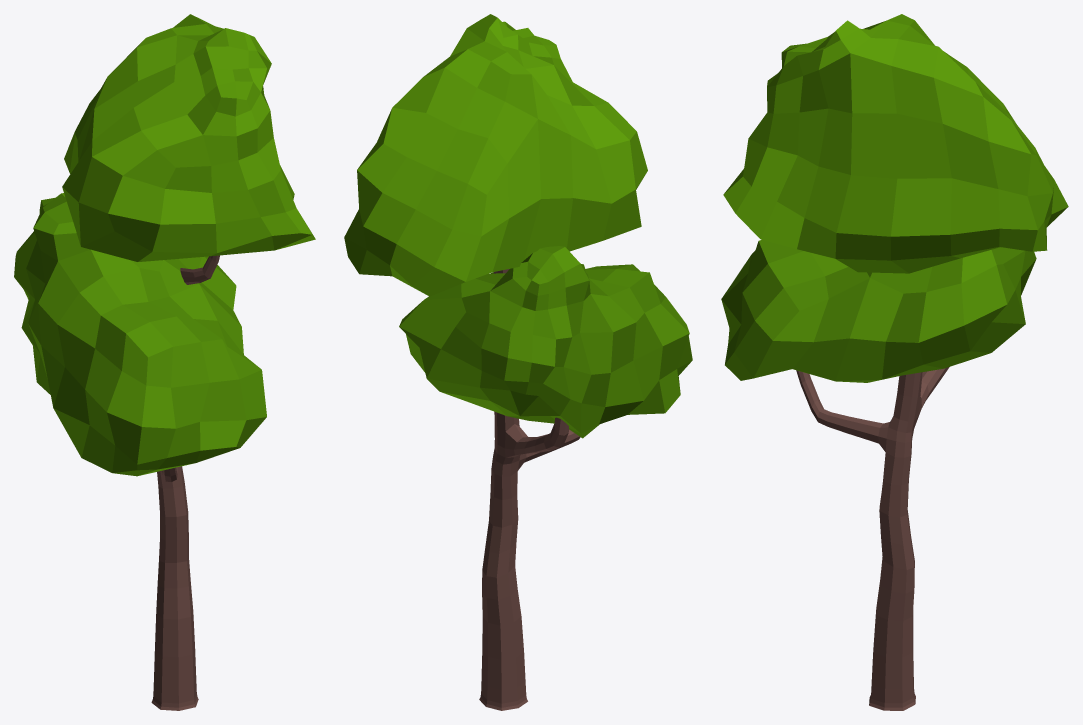
File: Tree2.glb
3 renders of one model, left to right at view 1: azimuth 30°, elevation 25°; view 2: azimuth 150°, elevation 25°; view 3: azimuth 270°, elevation 25°, orthographic. The views are drawn at different scales.
Parts seen in each view (by area): view 1: CommonTree_3; view 2: CommonTree_3; view 3: CommonTree_3.
Part boxes in pixels (box(x1,y1,x2,y2)): CommonTree_3: box(14, 14, 315, 710); CommonTree_3: box(344, 14, 692, 710); CommonTree_3: box(721, 14, 1068, 710).
Bounding box in the file's own units: 1.28 × 3.46 × 1.56.
